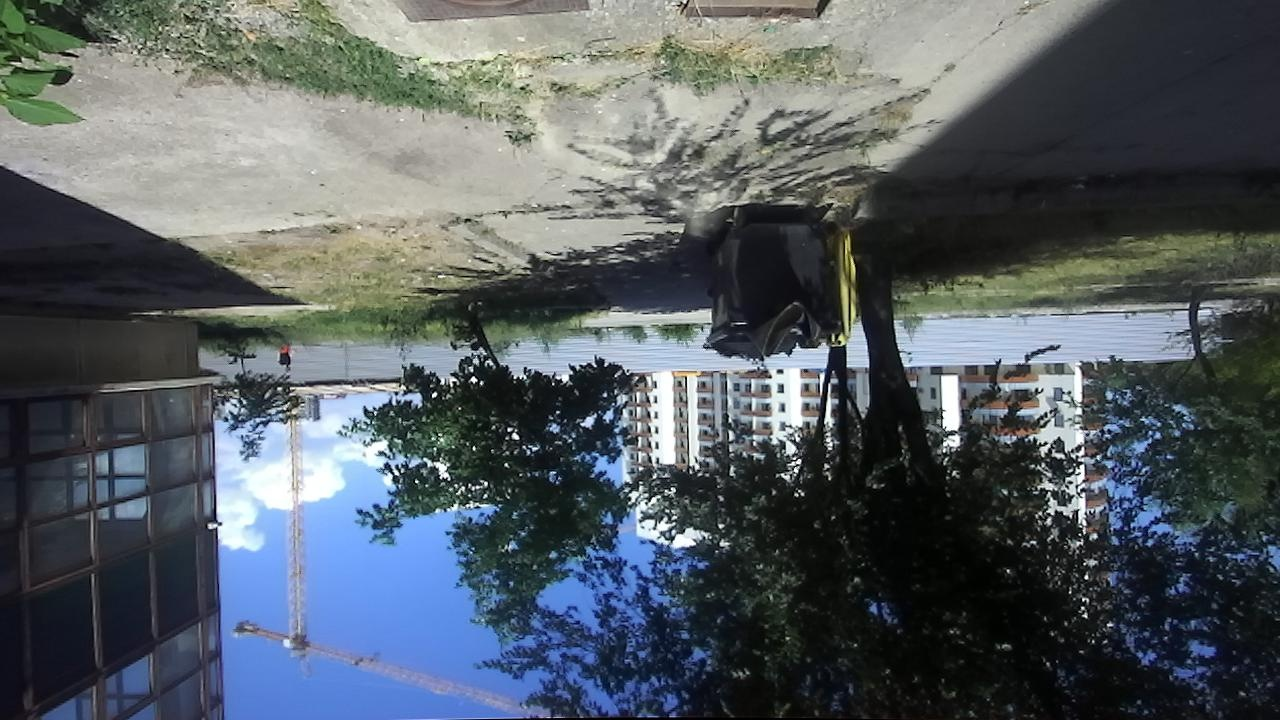drain: (675, 0, 834, 22)
